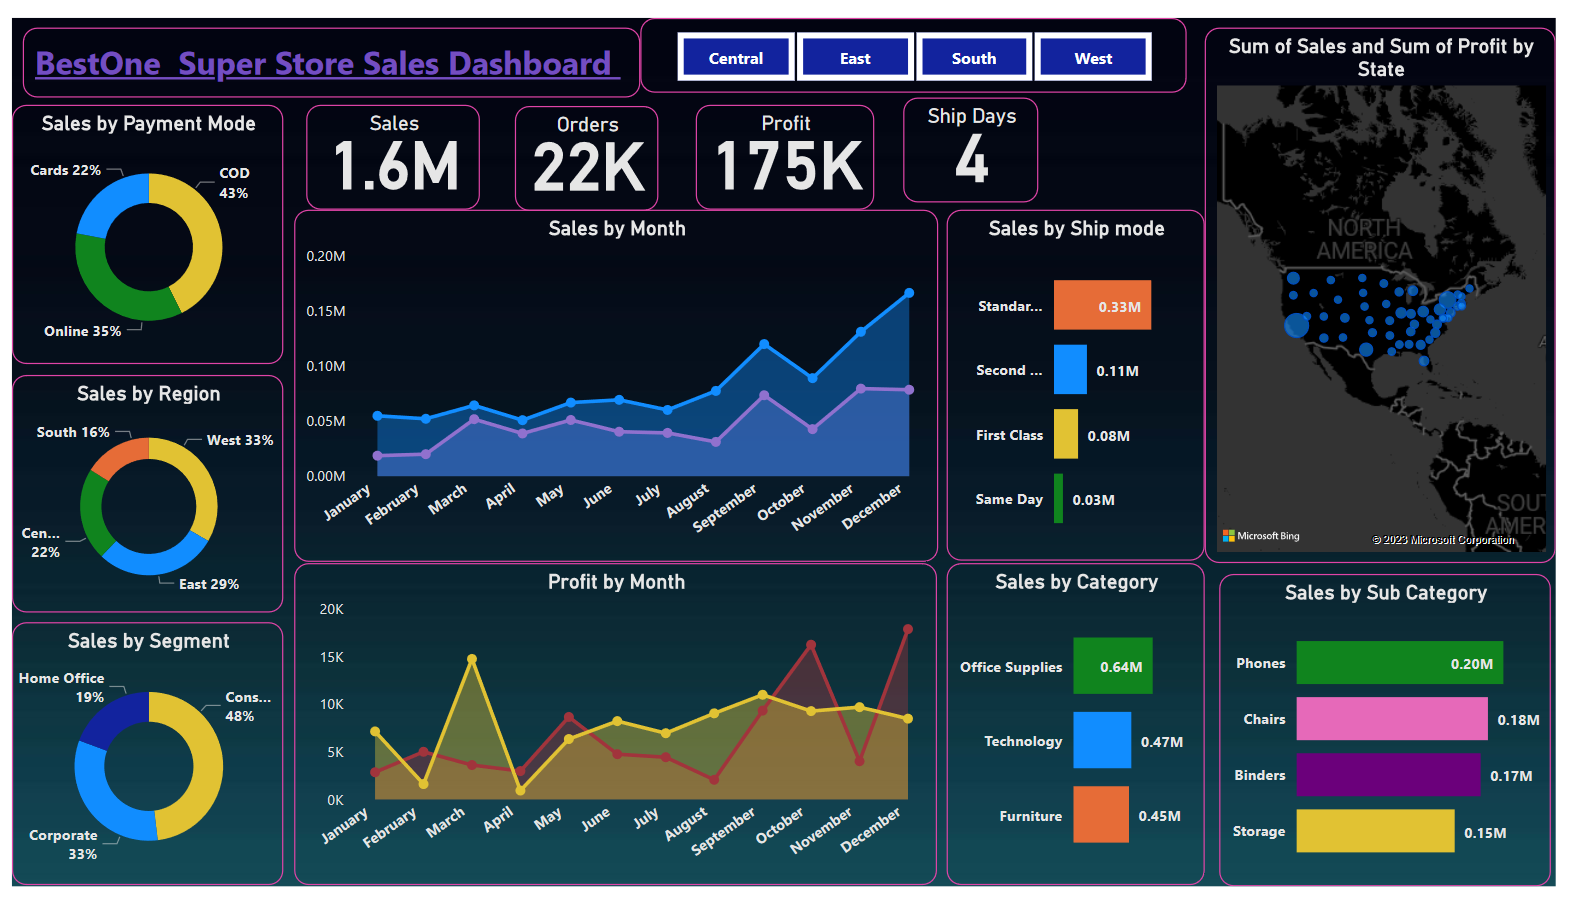

The dashboard page shown, as its layout file describes it:
{"tool":"powerbi","page":{"name":"Page 1","canvas":[1280,720],"ordinal":0},"visuals":[{"type":"clusteredBarChart","title":"Sales by Category","fields":{"Category":["Sheet1.Category"],"Y":["Sum(Sheet1.Sales)"]},"box":[775,452,213.8,267.2],"z":0},{"type":"clusteredBarChart","title":"Sales by Sub Category","fields":{"Category":["Sheet1.Sub-Category"],"Y":["Sum(Sheet1.Sales)"]},"box":[1000.9,460.7,275.6,259.1],"z":1000},{"type":"clusteredBarChart","title":"Sales by Ship mode ","fields":{"Category":["Sheet1.Ship Mode"],"Y":["Sum(Sheet1.Sales)"]},"box":[775,159.2,213.8,290.5],"z":2000},{"type":"areaChart","title":" Sales by Month ","fields":{"Y":["Sum(Sheet1.Sales)"],"Series":["Sheet1.Order Date.Variation.Date Hierarchy.Year"],"Category":["Sheet1.Order Date.Variation.Date Hierarchy.Month"]},"box":[233.6,159.2,534.5,291.7],"z":3000},{"type":"areaChart","title":" Profit by Month ","fields":{"Series":["Sheet1.Order Date.Variation.Date Hierarchy.Year"],"Category":["Sheet1.Order Date.Variation.Date Hierarchy.Month"],"Y":["Sum(Sheet1.Profit)"]},"box":[233.6,452,533.3,267.2],"z":4000},{"type":"map","fields":{"Category":["Sheet1.State"],"Size":["Sum(Sheet1.Sales)"]},"box":[988.8,8.1,291.7,443.9],"z":5000},{"type":"donutChart","title":"Sales by Segment","fields":{"Category":["Sheet1.Segment"],"Y":["Sum(Sheet1.Sales)"]},"box":[0,500.8,225.4,218.4],"z":6000},{"type":"donutChart","title":"Sales by Payment Mode","fields":{"Category":["Sheet1.Payment Mode"],"Y":["Sum(Sheet1.Sales)"]},"box":[0,72,225.4,215],"z":7000},{"type":"slicer","fields":{"Values":["Sheet1.Region"]},"box":[520.6,0,453.2,61.6],"z":8000},{"type":"textbox","box":[9.3,8.1,511.3,58.1],"z":9000},{"type":"card","title":"Orders","fields":{"Values":["Sum(Sheet1.Quantity)"]},"box":[417.1,73.2,118.5,87.1],"z":10000},{"type":"card","title":"Ship Days","fields":{"Values":["Avg(Sheet1.AvgDelivery)"]},"box":[739,66.2,111.5,87.1],"z":11000},{"type":"card","title":"Sales","fields":{"Values":["Sum(Sheet1.Sales)"]},"box":[244,72,144.1,87.1],"z":12000},{"type":"card","title":"Profit","fields":{"Values":["Sum(Sheet1.Profit)"]},"box":[567,72,147.6,87.1],"z":13000},{"type":"donutChart","title":"Sales by Region","fields":{"Category":["Sheet1.Region"],"Y":["Sum(Sheet1.Sales)"]},"box":[0,296.3,225.4,196.4],"z":14000}]}

Visuals, with their boxes in screenshot pixels (x1, y1, x2, y2), scaled from the page's 1280x720 canvas onto the 1576x903 screenshot:
"Sales by Category" clusteredBarChart: x1=954 y1=567 x2=1217 y2=902
"Sales by Sub Category" clusteredBarChart: x1=1232 y1=578 x2=1572 y2=902
"Sales by Ship mode " clusteredBarChart: x1=954 y1=200 x2=1217 y2=564
" Sales by Month " areaChart: x1=288 y1=200 x2=946 y2=566
" Profit by Month " areaChart: x1=288 y1=567 x2=944 y2=902
map - Sheet1.State x Sum(Sheet1.Sales): x1=1217 y1=10 x2=1575 y2=567
"Sales by Segment" donutChart: x1=0 y1=628 x2=278 y2=902
"Sales by Payment Mode" donutChart: x1=0 y1=90 x2=278 y2=360
slicer - Sheet1.Region: x1=641 y1=0 x2=1199 y2=77
textbox: x1=11 y1=10 x2=641 y2=83
"Orders" card: x1=514 y1=92 x2=659 y2=201
"Ship Days" card: x1=910 y1=83 x2=1047 y2=192
"Sales" card: x1=300 y1=90 x2=478 y2=200
"Profit" card: x1=698 y1=90 x2=880 y2=200
"Sales by Region" donutChart: x1=0 y1=372 x2=278 y2=618
